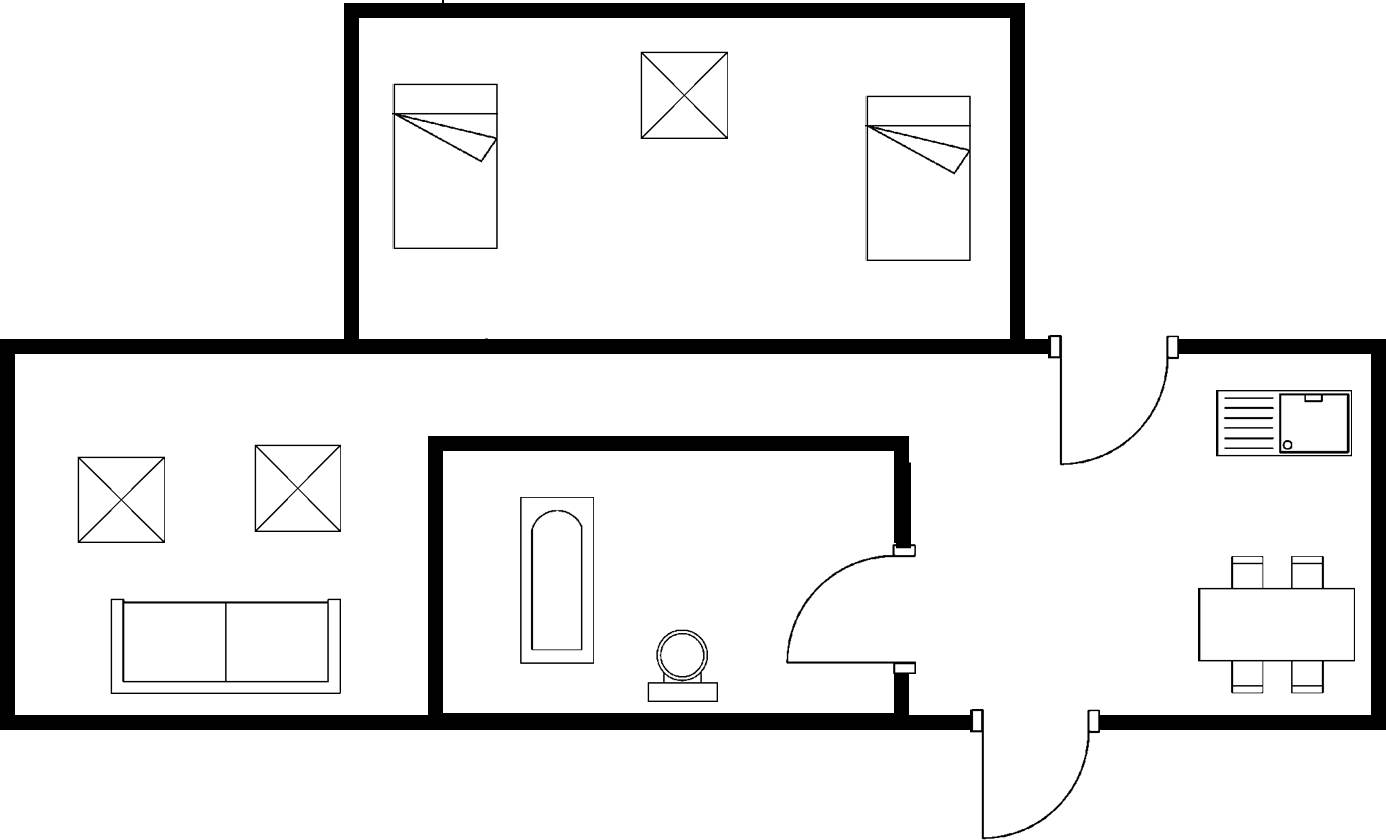bed: (388, 77, 506, 259), (859, 88, 976, 266)
coffee_table: (634, 47, 736, 148), (249, 440, 347, 540), (73, 451, 172, 549)
dining_table: (1190, 549, 1362, 701)
large_sink: (643, 622, 725, 709)
large_sofa: (105, 593, 347, 701)
sink: (1211, 384, 1360, 464)
tub: (514, 492, 601, 672)
